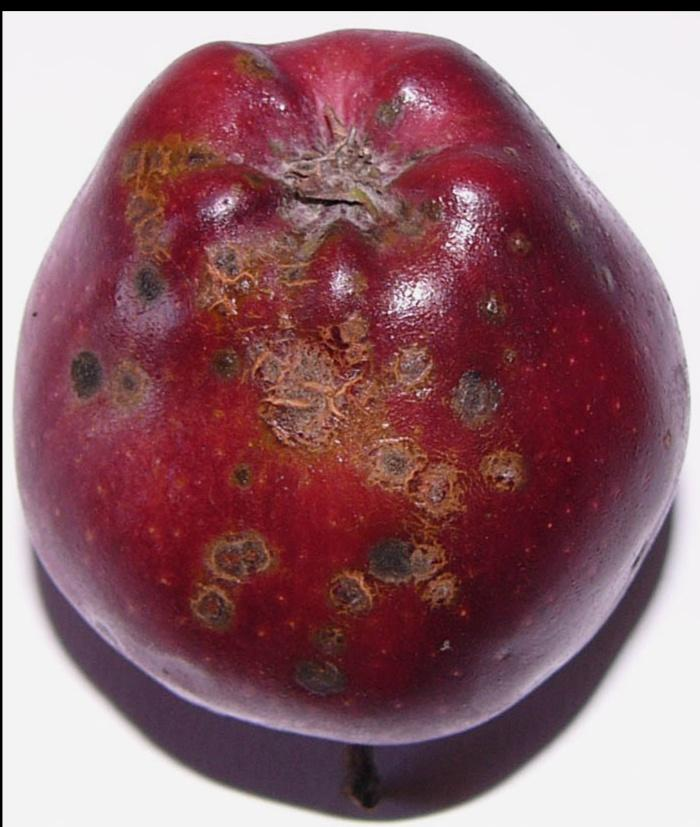rotten apple: (9, 29, 689, 766)
